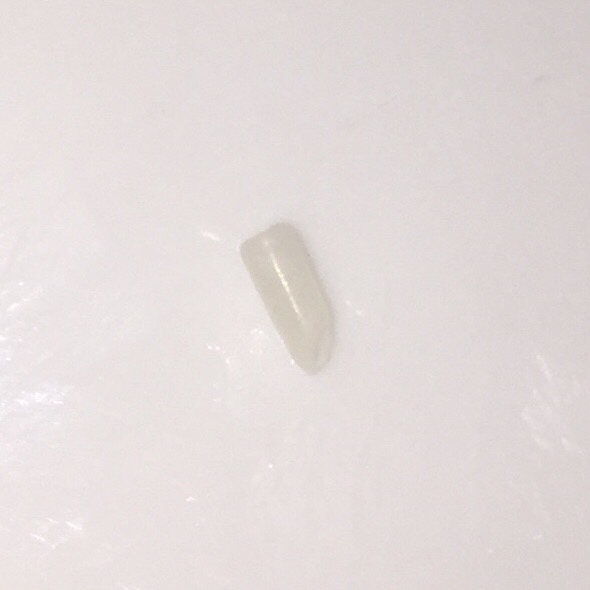Gao Tam: (237, 218, 346, 373)
